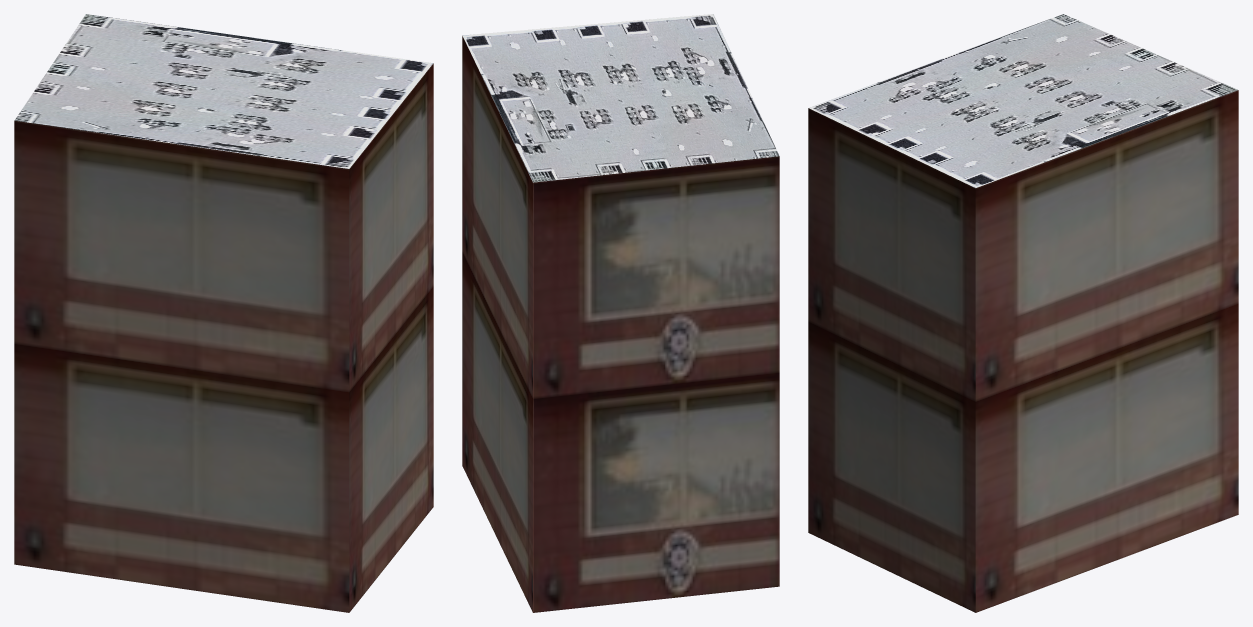
File: ResTex__3578.fbx
The picture shows the model from 3 angles, left to right: view 1: azimuth 30°, elevation 25°; view 2: azimuth 150°, elevation 25°; view 3: azimuth 270°, elevation 25°; orthographic projection. The views are drawn at different scales.
Visible parts, largest first — view 1: CityEngineMaterial_13_m, CityEngineMaterial_m; view 2: CityEngineMaterial_13_m, CityEngineMaterial_m; view 3: CityEngineMaterial_13_m, CityEngineMaterial_m.
Boxes of the visible parts, x1,y1,x2,y2 form: CityEngineMaterial_13_m: (14,63,433,612); CityEngineMaterial_m: (14,14,433,168); CityEngineMaterial_13_m: (462,36,779,612); CityEngineMaterial_m: (462,14,779,182); CityEngineMaterial_13_m: (808,90,1238,612); CityEngineMaterial_m: (809,14,1237,187).
Size of the model in its own units: 5.28 by 6 by 5.51.
Materials: 2 (2 with a texture image).
